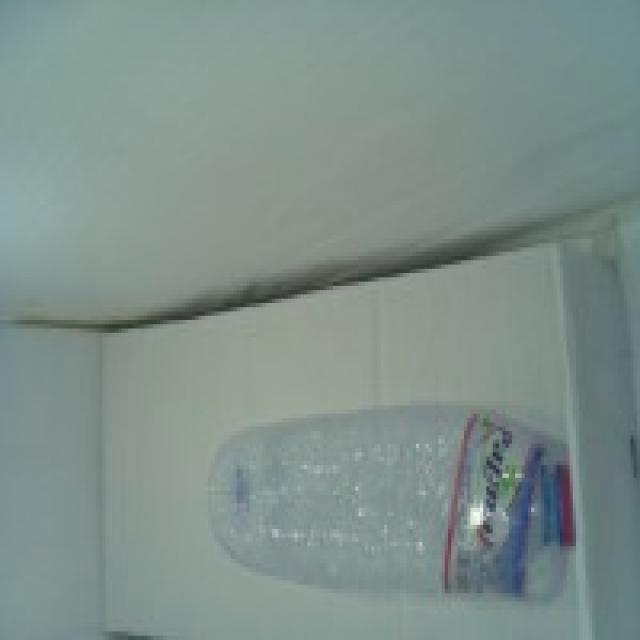bottle: (210, 407, 577, 604)
